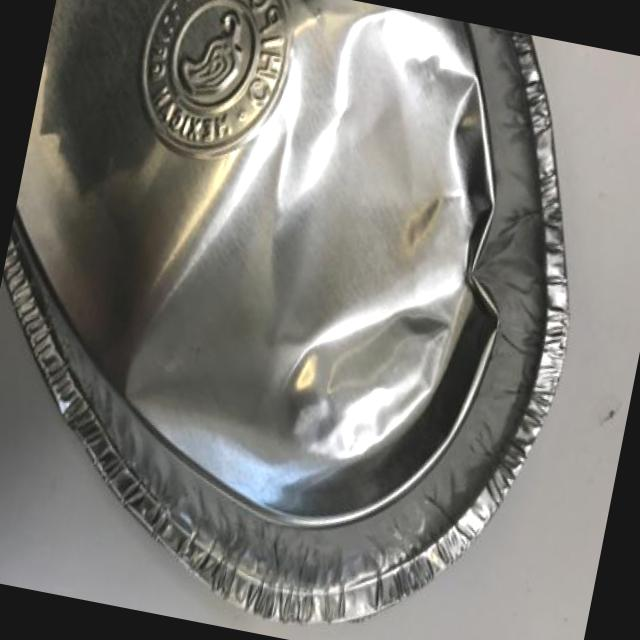metal: (4, 0, 566, 621)
